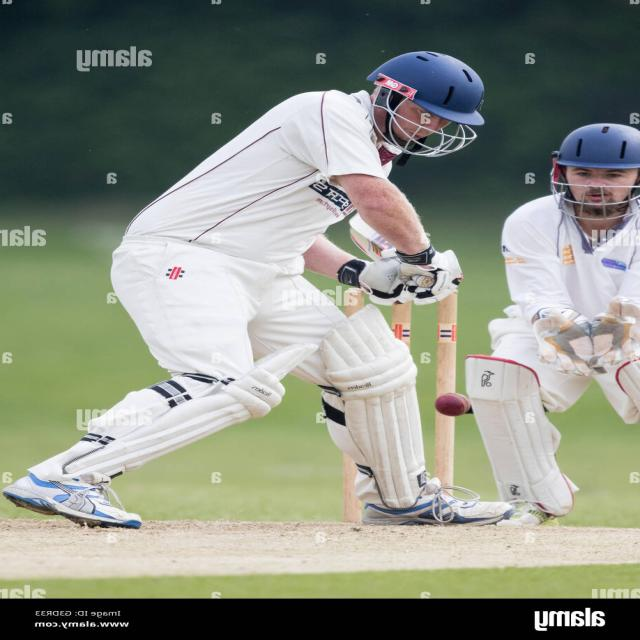stump: (339, 287, 461, 399), (340, 451, 366, 528), (433, 412, 456, 495)
